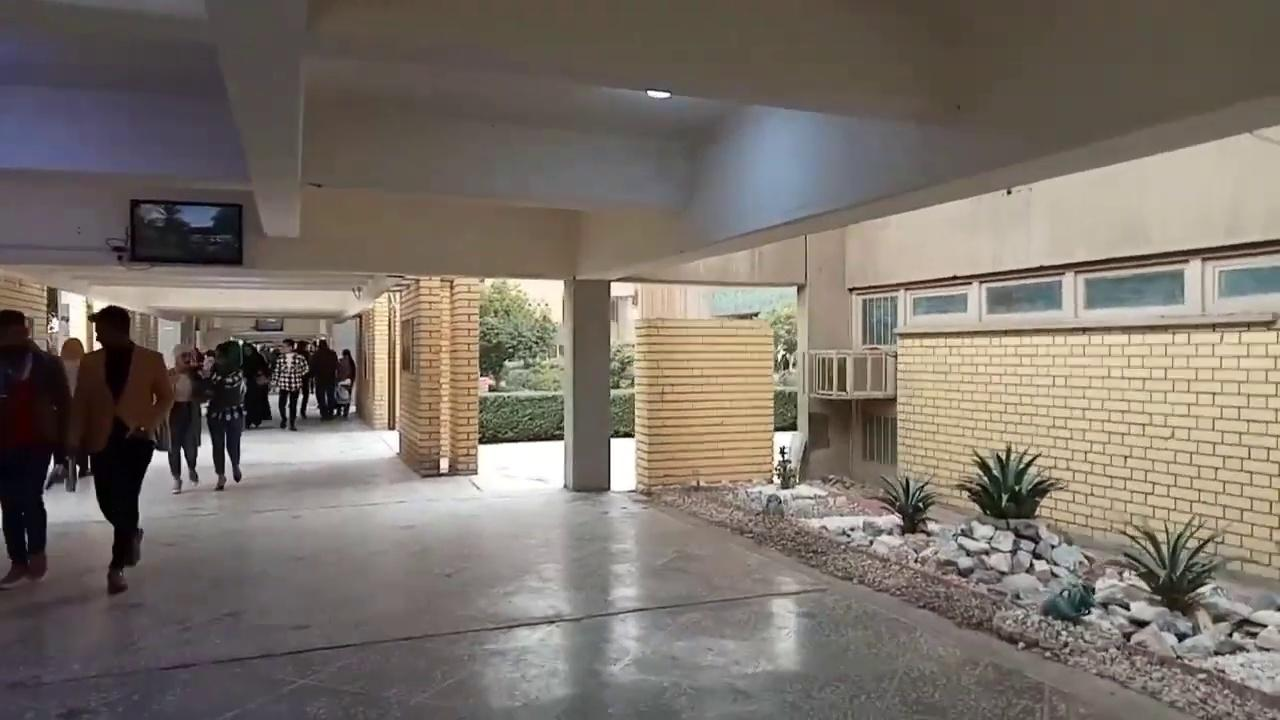person: (68, 304, 174, 594), (0, 308, 71, 587), (202, 341, 247, 490), (166, 344, 204, 494), (56, 337, 91, 479)
tree: (1115, 512, 1225, 611), (953, 441, 1066, 524), (478, 278, 557, 386), (872, 472, 938, 533), (765, 302, 797, 374), (609, 340, 634, 388), (609, 390, 634, 436), (773, 444, 797, 488)
